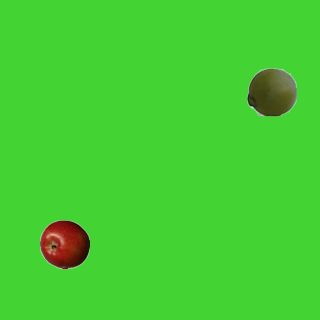Apple Braeburn: (39, 219, 89, 269)
Grape White 4: (246, 66, 296, 116)
